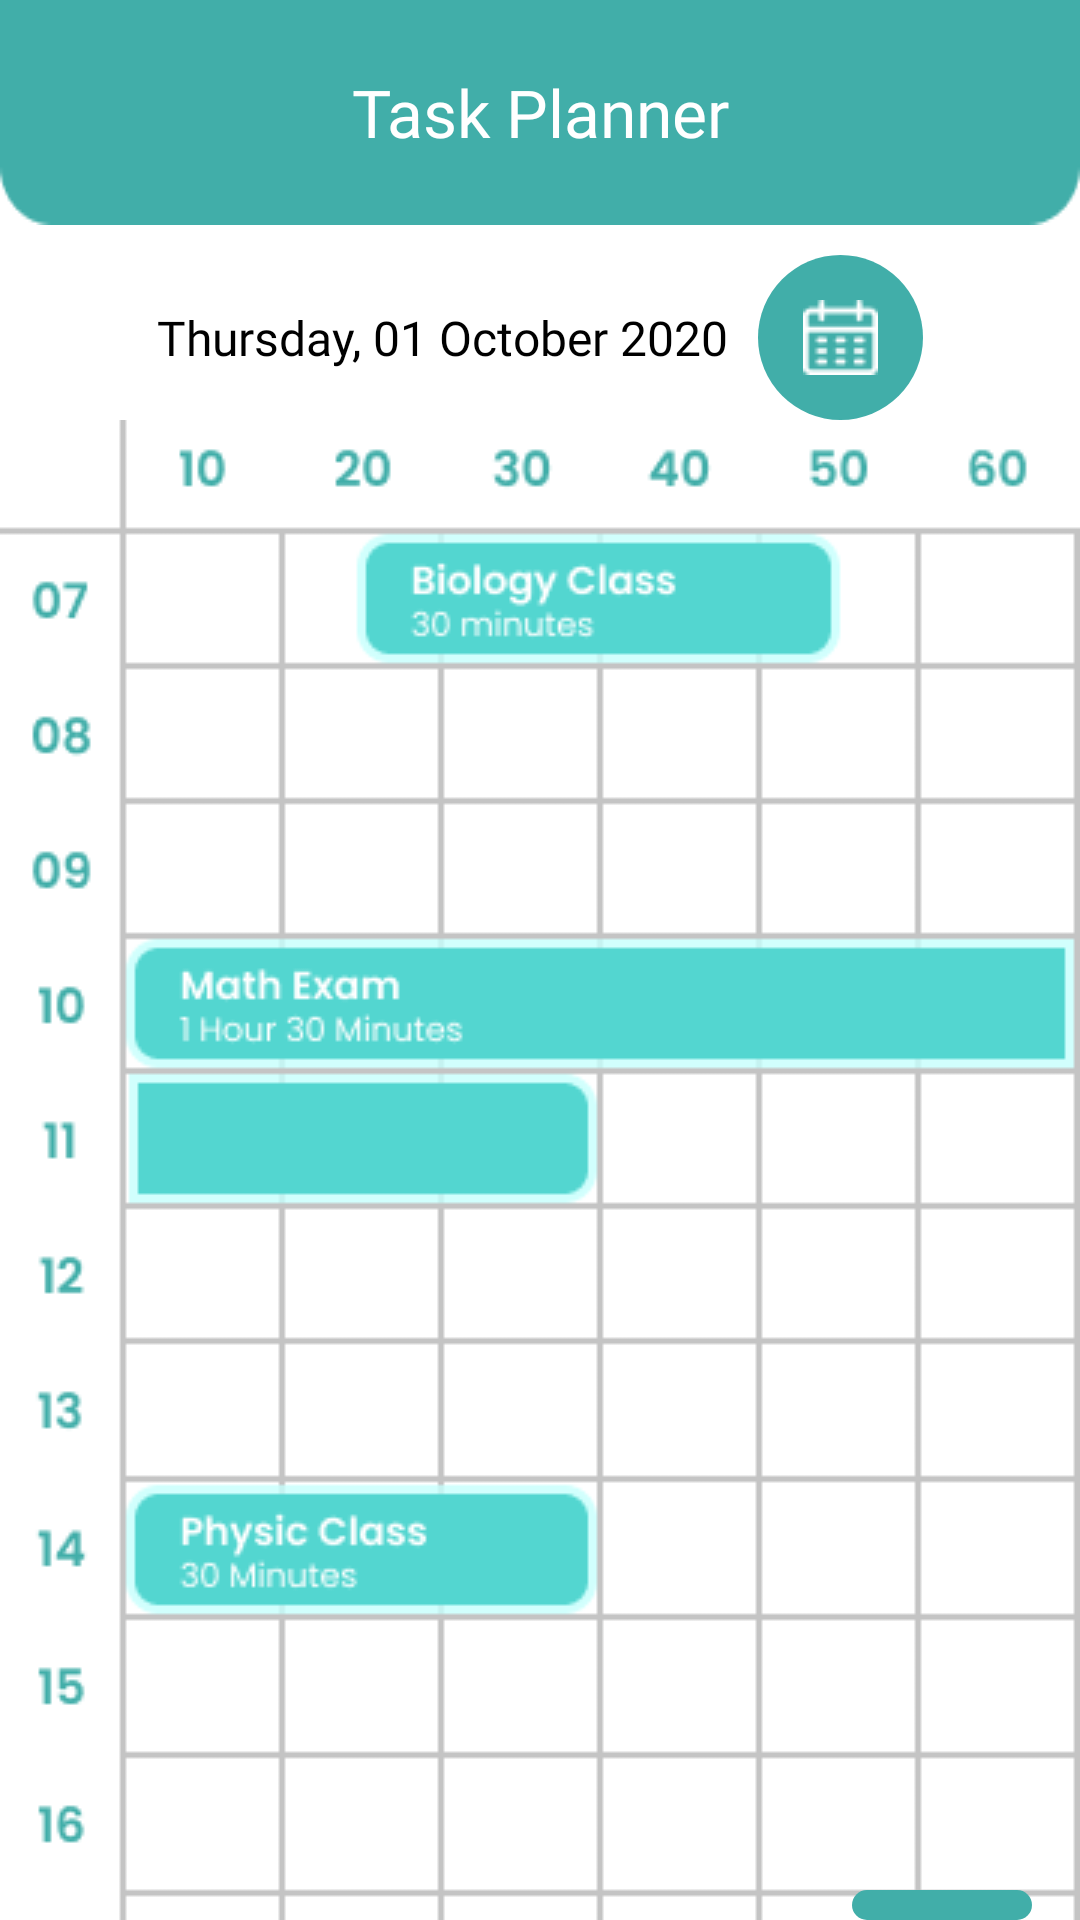

Screen size 1080*1920. Icon name, then its box in pixels as Rect(x1, y1, x2, y2):
date: Rect(758, 255, 923, 420)
